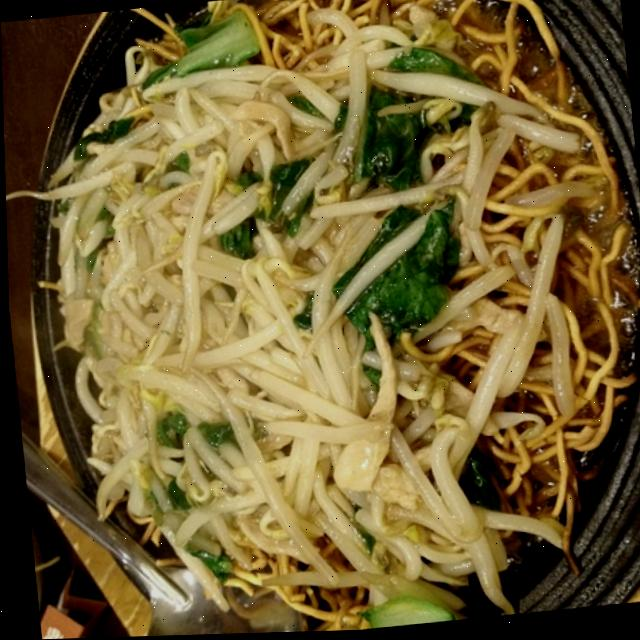面条主食: (13, 0, 640, 640)
